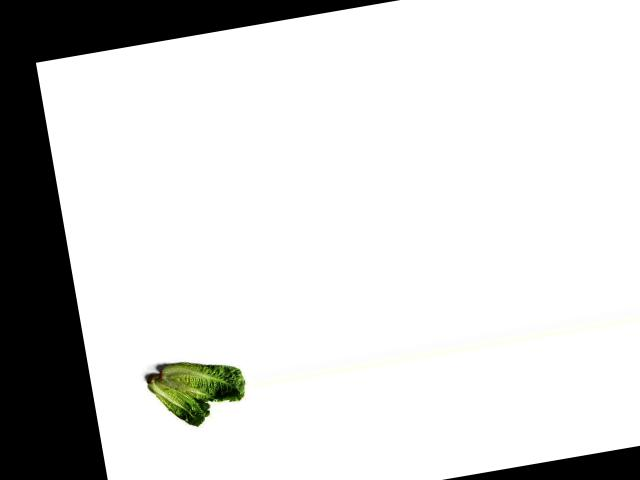lettuce: (141, 363, 213, 434)
